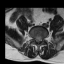CCS_normal: (37, 37, 39, 45)
LFS_severe_stenosis: (41, 36, 44, 42)
LLS_normal: (39, 37, 41, 44)
RFS_stenosis: (32, 35, 35, 41)
RLS_normal: (35, 37, 37, 44)
